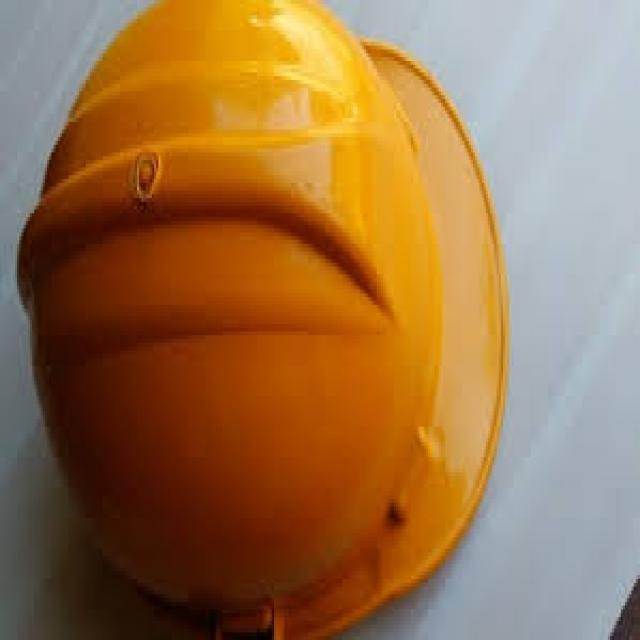safety_helmet: (8, 7, 533, 632)
